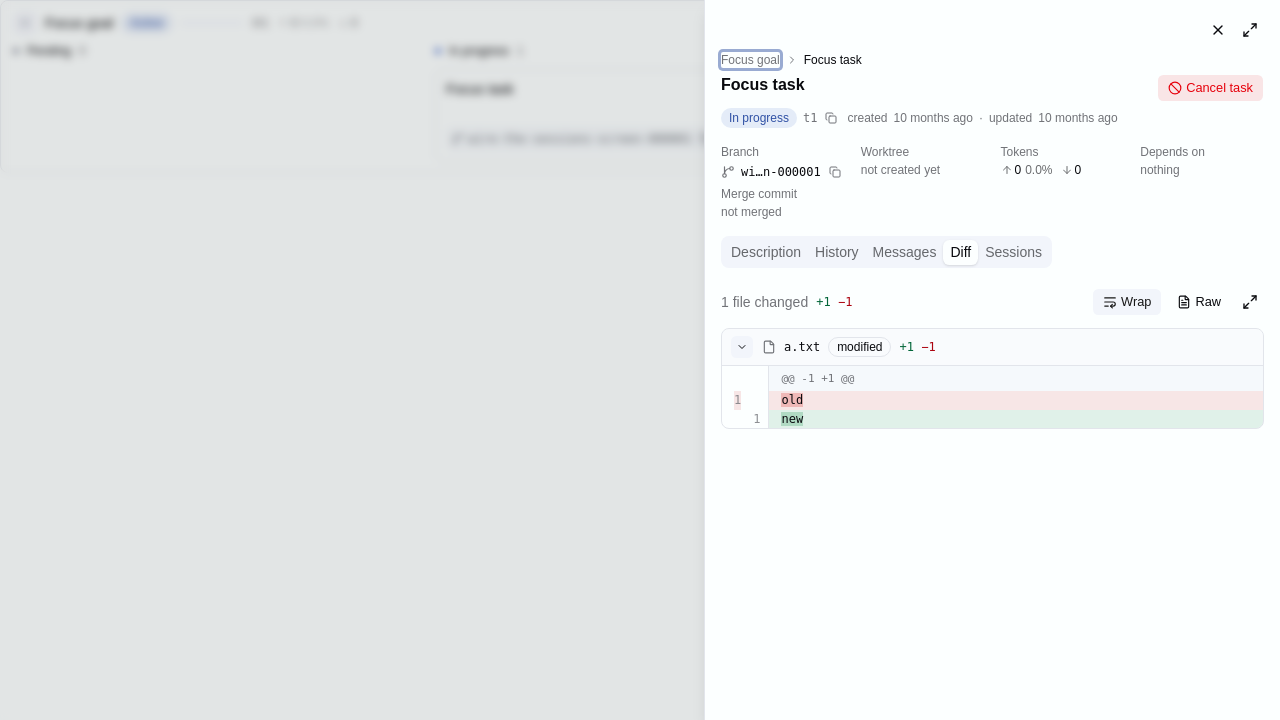
Test: keeps focus in the pane after collapsing the diff
This screenshot has width=1280, height=720.
Click the button named "Expand the diff". click: [1250, 302]
box: left=1236, top=288, right=1264, bottom=316
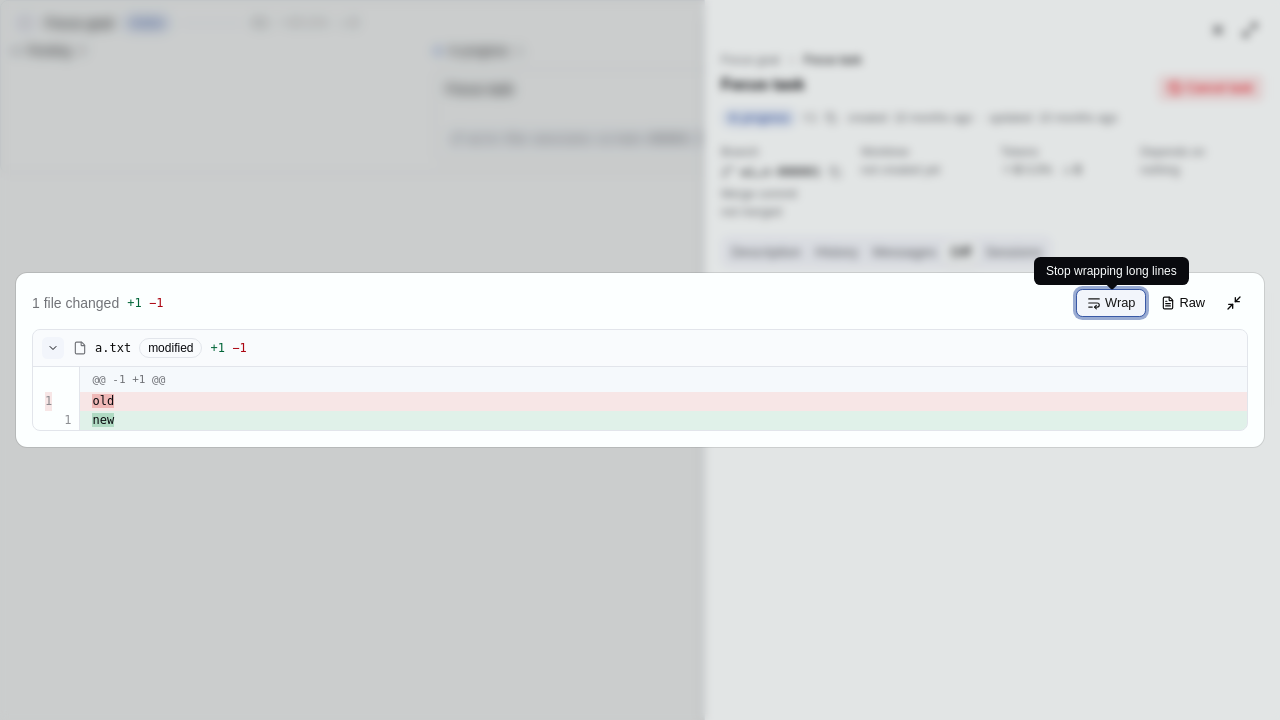
Click the button named "Collapse the diff back into the panel". click: [1234, 303]
box: left=1220, top=289, right=1248, bottom=317
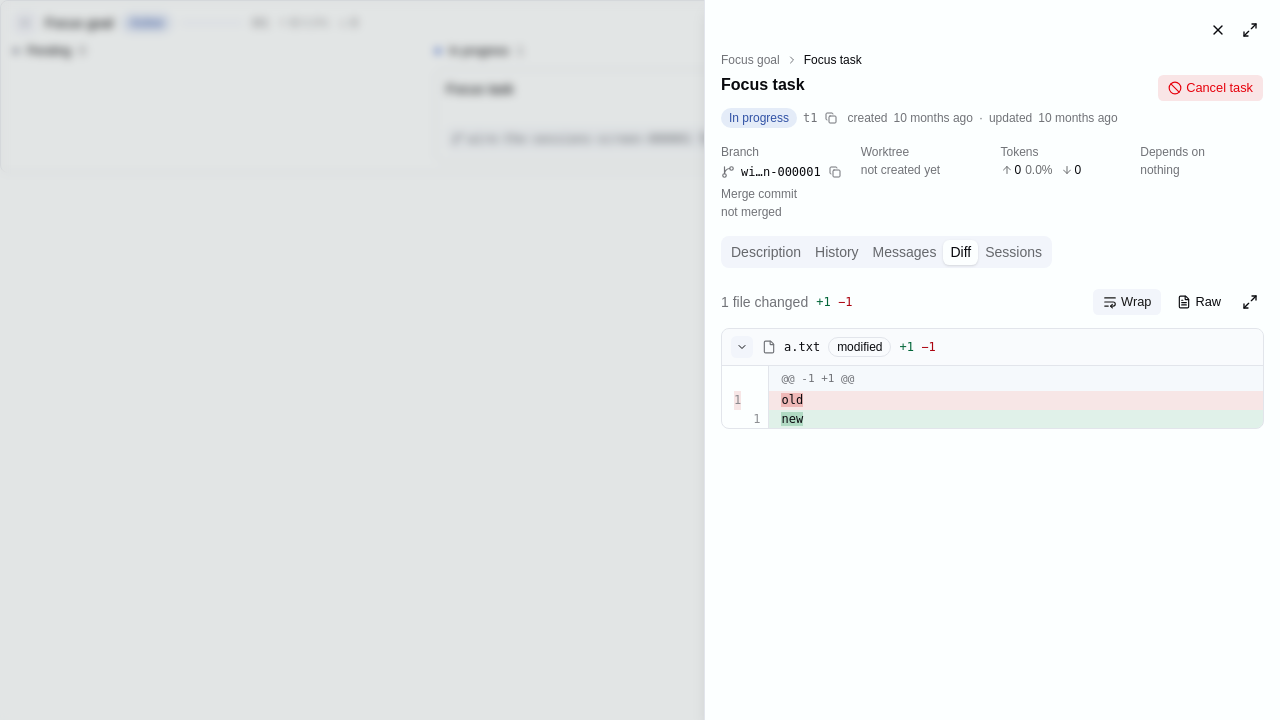
Check: the dialog is gone
